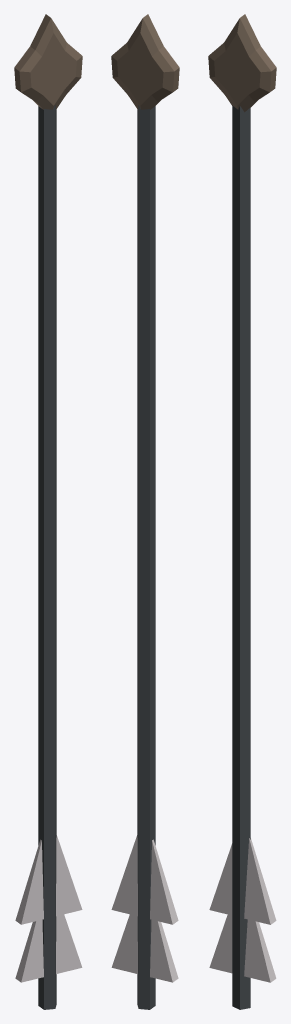
File: _arrow_c_21.glb
3 views of the same model, side by side, from view 1: azimuth 30°, elevation 25°; view 2: azimuth 150°, elevation 25°; view 3: azimuth 330°, elevation 25° (orthographic).
Visible parts, largest first — view 1: arrow_c_21; view 2: arrow_c_21; view 3: arrow_c_21.
Part boxes in pixels (<box>): arrow_c_21: <box>14,14,82,1009</box>; arrow_c_21: <box>111,14,179,1009</box>; arrow_c_21: <box>208,14,276,1009</box>.
Size of the model in its own units: 1282 by 19202 by 361.
Materials: 1 (1 with a texture image).
